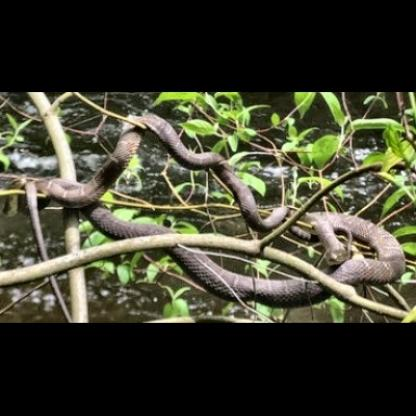Snake: (4, 113, 410, 302)
